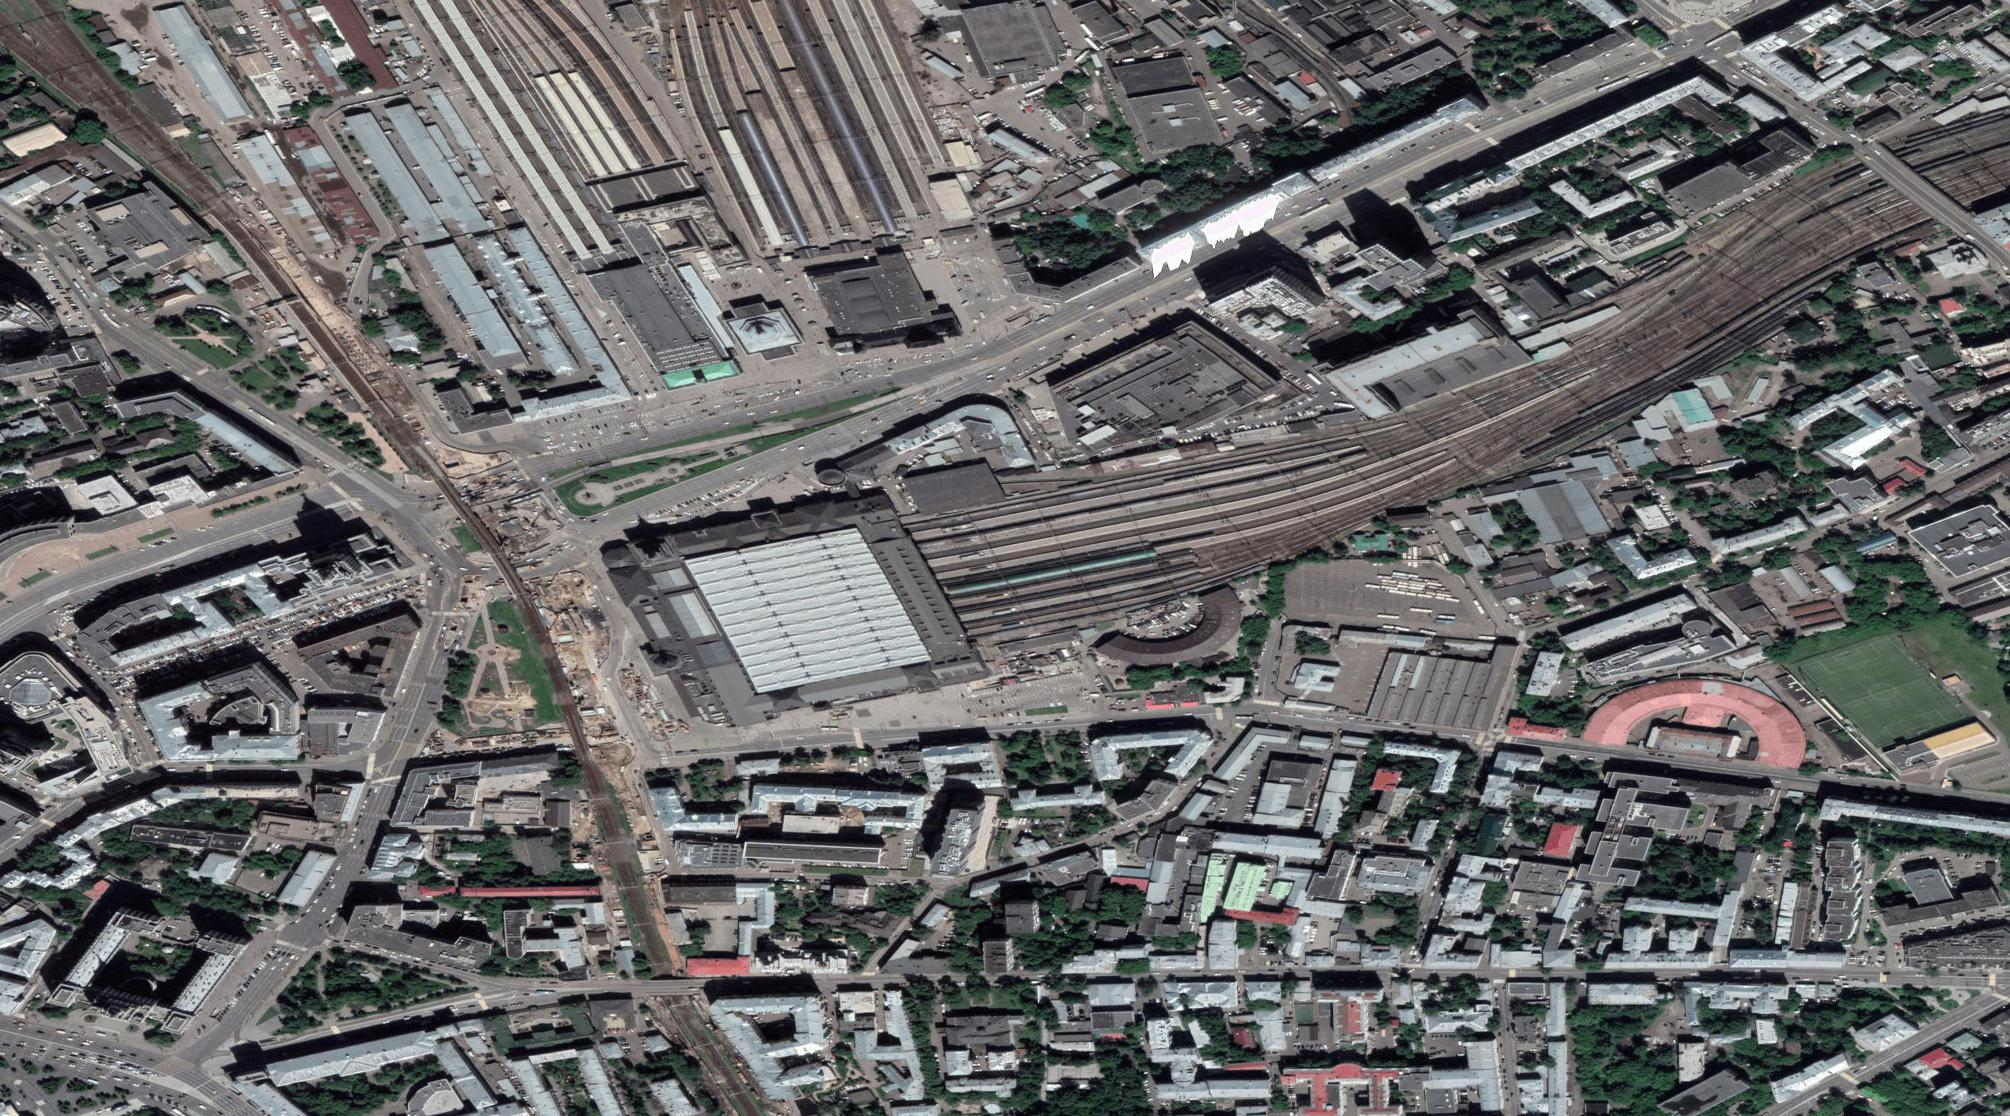bridge: (1857, 135, 1965, 228)
train_station: (658, 491, 992, 733)
